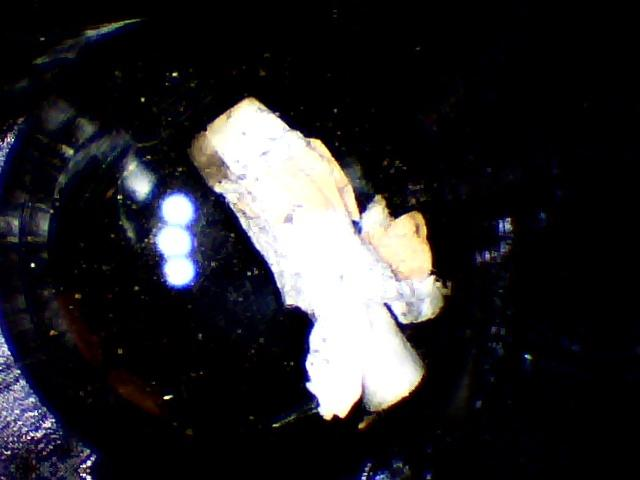megot: (161, 85, 461, 439)
